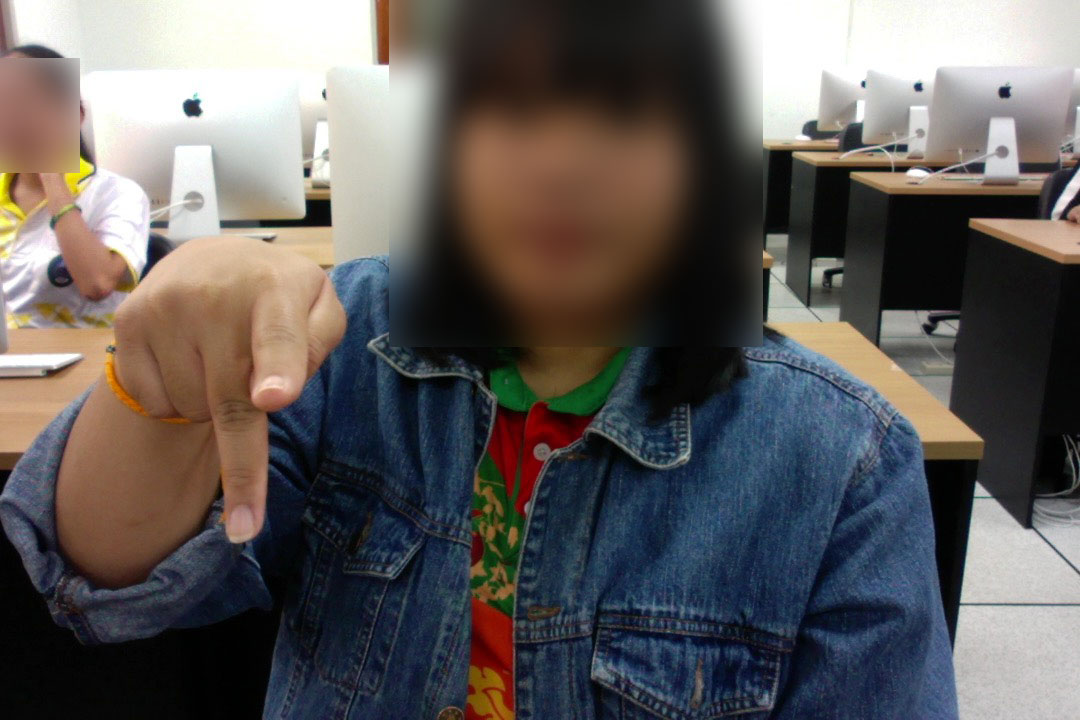por: (88, 223, 361, 551)
